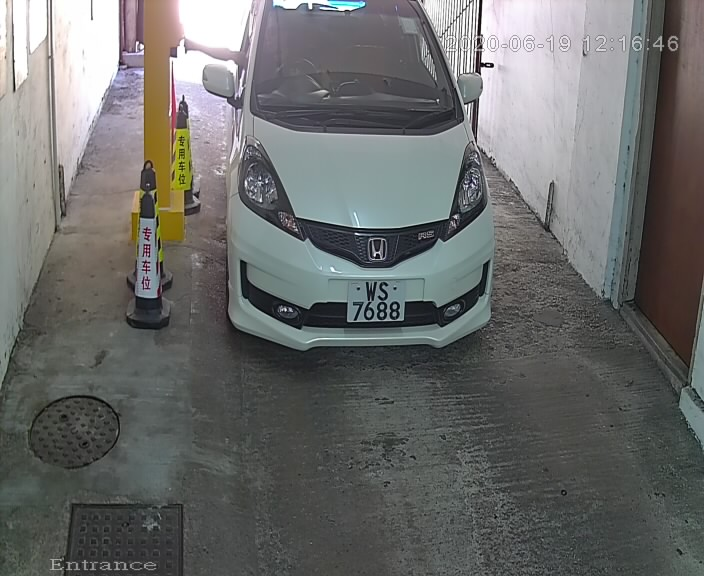privatecar: (207, 3, 505, 363)
